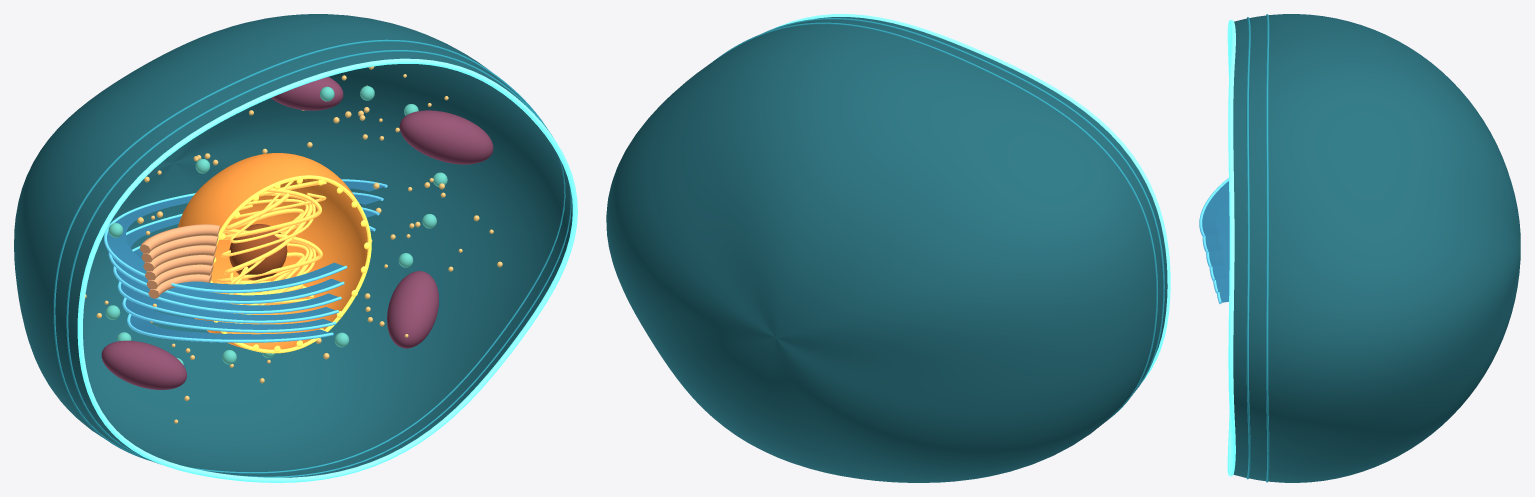
File: helix-cell-interior.glb
3 views of the same model, side by side, from view 1: azimuth 30°, elevation 25°; view 2: azimuth 150°, elevation 25°; view 3: azimuth 270°, elevation 25° (orthographic). The views are drawn at different scales.
Parts seen in each view (by area): view 1: Membrane · open cell envelope, Nucleus · open nuclear envelope, Membrane · open cell envelope · cutaway edge, Mitochondrion 00 · outer membrane, Membrane · lipid boundary 0.16, Mitochondrion 01 · outer membrane, Mitochondrion 02 · outer membrane, Membrane · lipid boundary 0.075, ER · folded membrane 05, ER · folded membrane 04, Nucleus · nucleolus, Nucleus · open nuclear envelope · cutaway edge (+23 smaller); view 2: Membrane · open cell envelope, Membrane · open cell envelope · cutaway edge, Membrane · lipid boundary 0.16, Membrane · lipid boundary 0.075; view 3: Membrane · open cell envelope, Membrane · open cell envelope · cutaway edge, Membrane · lipid boundary 0.16, Membrane · lipid boundary 0.075, ER · folded membrane 05, ER · folded membrane 04, ER · folded membrane 03, ER · folded membrane 02.
Part boxes in pixels (bbox=[...]): Membrane · open cell envelope: bbox=[14, 14, 572, 477]; Nucleus · open nuclear envelope: bbox=[178, 153, 367, 349]; Membrane · open cell envelope · cutaway edge: bbox=[77, 58, 577, 482]; Mitochondrion 00 · outer membrane: bbox=[399, 110, 493, 164]; Membrane · lipid boundary 0.16: bbox=[53, 39, 565, 473]; Mitochondrion 01 · outer membrane: bbox=[387, 271, 438, 348]; Mitochondrion 02 · outer membrane: bbox=[101, 340, 186, 389]; Membrane · lipid boundary 0.075: bbox=[66, 50, 571, 477]; ER · folded membrane 05: bbox=[107, 181, 384, 289]; ER · folded membrane 04: bbox=[112, 194, 380, 300]; Nucleus · nucleolus: bbox=[229, 224, 287, 280]; Nucleus · open nuclear envelope · cutaway edge: bbox=[214, 175, 371, 353]; Membrane · open cell envelope: bbox=[606, 17, 1167, 482]; Membrane · open cell envelope · cutaway edge: bbox=[773, 14, 1170, 381]; Membrane · lipid boundary 0.16: bbox=[714, 22, 1157, 420]; Membrane · lipid boundary 0.075: bbox=[762, 18, 1164, 392]; Membrane · open cell envelope: bbox=[1233, 14, 1520, 482]; Membrane · open cell envelope · cutaway edge: bbox=[1227, 19, 1235, 476]; Membrane · lipid boundary 0.16: bbox=[1266, 14, 1269, 482]; Membrane · lipid boundary 0.075: bbox=[1246, 17, 1250, 479]; ER · folded membrane 05: bbox=[1202, 181, 1229, 235]; ER · folded membrane 04: bbox=[1205, 196, 1229, 251]; ER · folded membrane 03: bbox=[1209, 213, 1229, 266]; ER · folded membrane 02: bbox=[1212, 229, 1229, 279].
Bounding box in the file's own units: 12.01 × 9.34 × 6.79.
